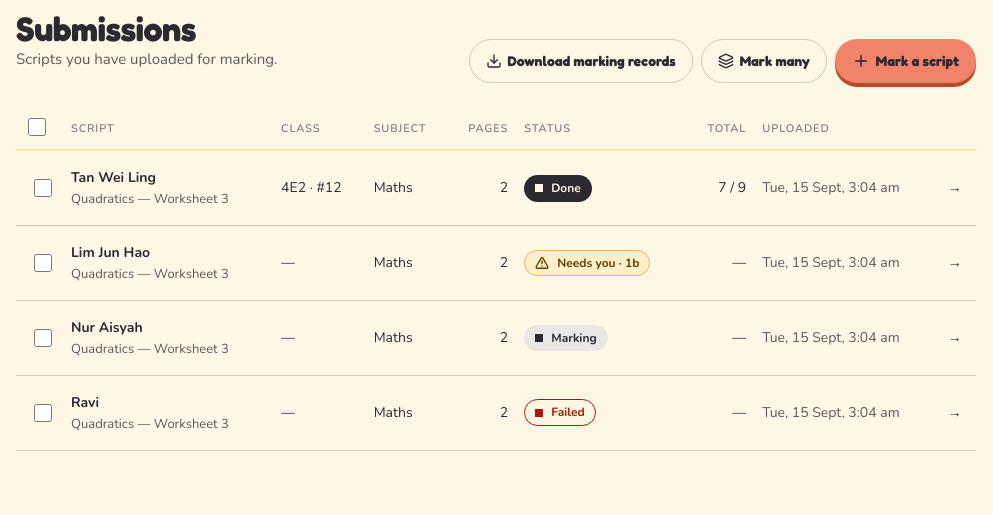
Test case: Submissions — download marking records › with scripts ticked downloads only those, skipping unmarked ones
The image size is (993, 515).
Click the checkbox named "Select Lim Jun Hao": click(43, 263) [34,254,52,272]
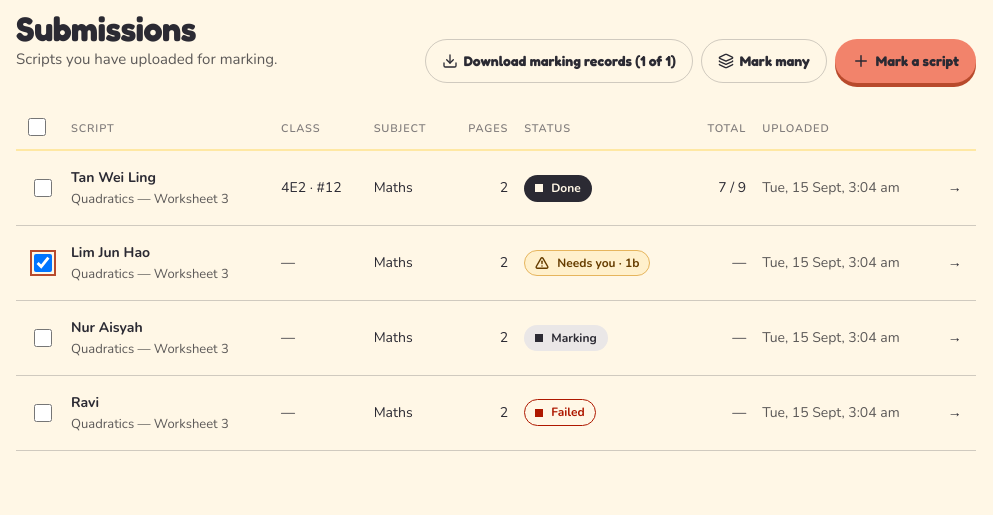
Click the checkbox named "Select Nur Aisyah": click(43, 338) [34,329,52,347]
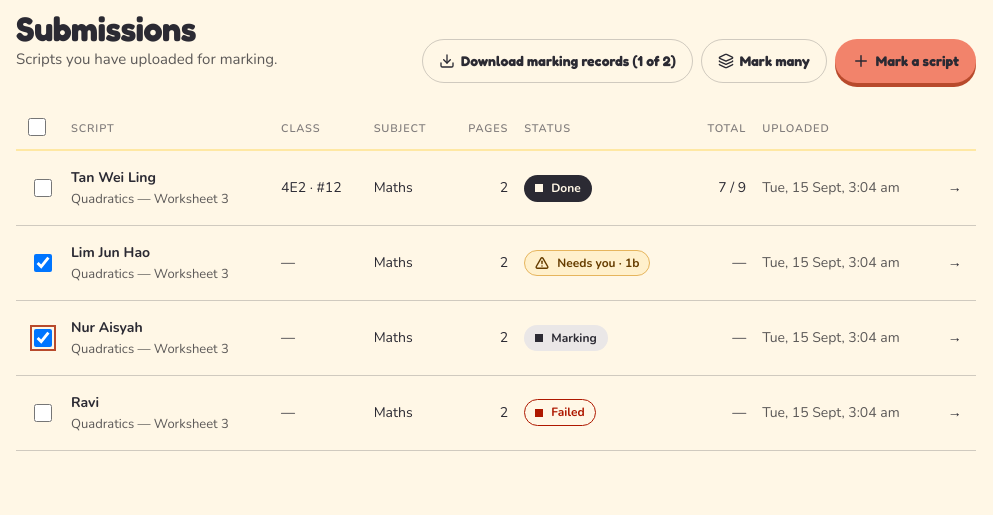
Click the button "Download marking records (1 of 2)": click(557, 61) [422,39,693,83]
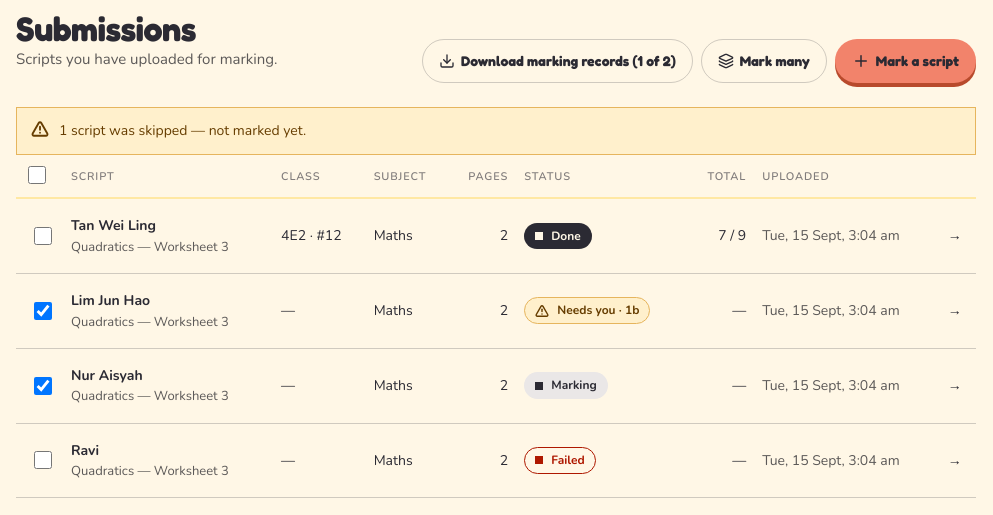
Check: the message reads "1 script was skipped — not marked yet.", box [59,121,306,140]
